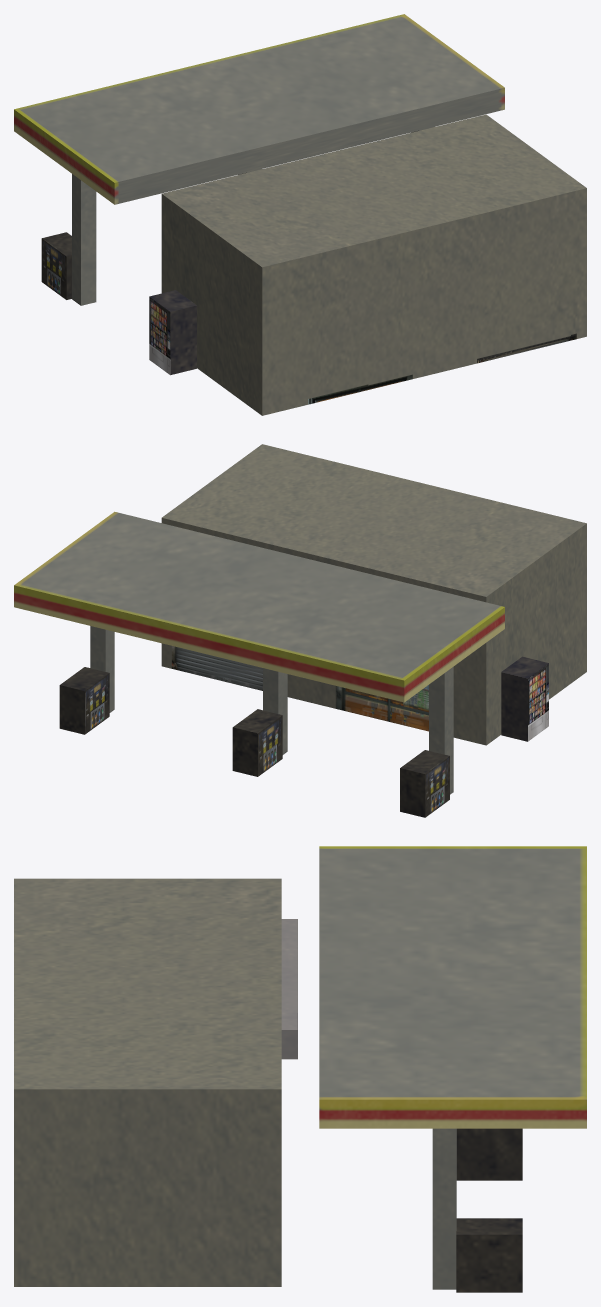
The model's file is petrol station.glb.
The picture shows the model from 3 angles, top to bottom: view 1: azimuth 30°, elevation 25°; view 2: azimuth 150°, elevation 25°; view 3: azimuth 270°, elevation 25°; orthographic projection. The views are drawn at different scales.
Visible parts, largest first — view 1: Cube.010; view 2: Cube.010; view 3: Cube.010.
Part boxes in pixels (x1,y1,x2,y2): Cube.010: [14, 14, 586, 415]; Cube.010: [14, 444, 586, 817]; Cube.010: [14, 846, 586, 1292].
Bounding box in the file's own units: 12.87 × 4.95 × 12.29.
1 material, 1 textured.
